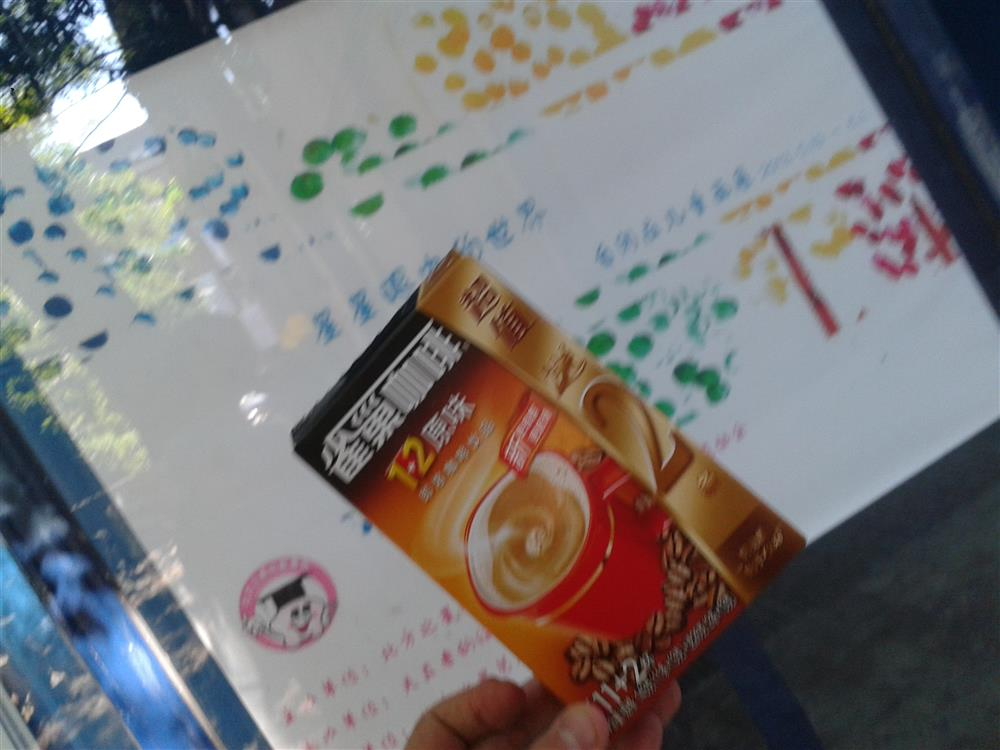Nestle: (278, 252, 813, 729)
